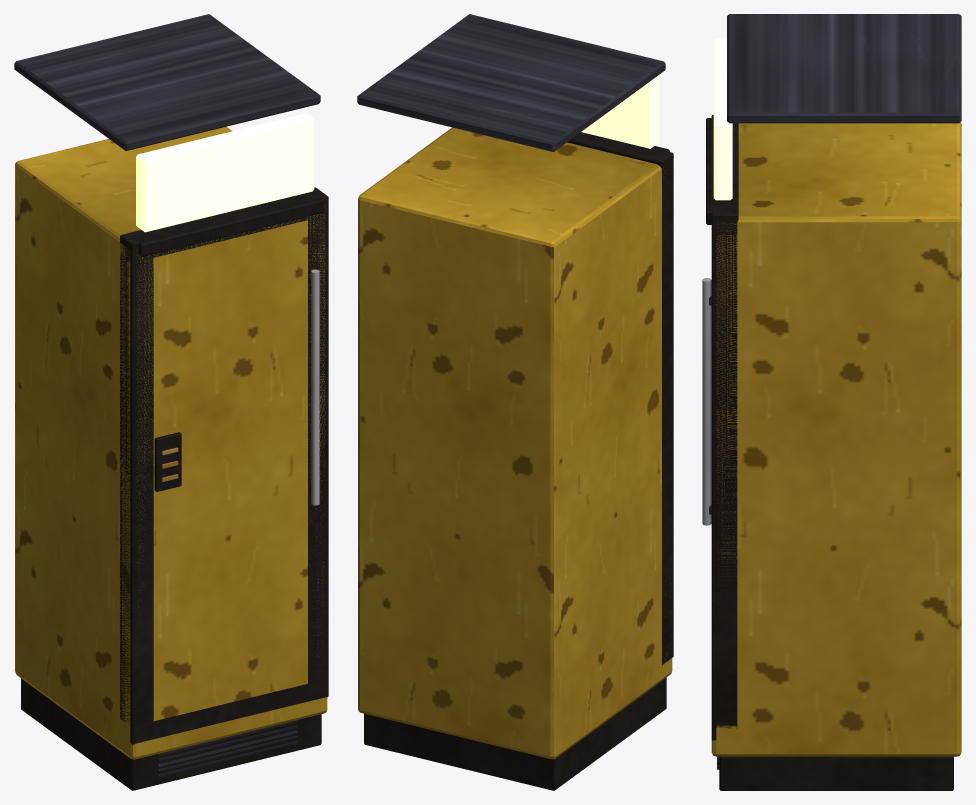
File: beer_fridge.glb
3 renders of one model, left to right at view 1: azimuth 30°, elevation 25°; view 2: azimuth 150°, elevation 25°; view 3: azimuth 270°, elevation 25°, orthographic. The views are drawn at different scales.
Visible parts, largest first — view 1: beer_fridge; view 2: beer_fridge; view 3: beer_fridge.
Part boxes in pixels (x1=…): beer_fridge: x1=14, y1=14, x2=328, y2=790; beer_fridge: x1=357, y1=14, x2=673, y2=790; beer_fridge: x1=702, y1=14, x2=961, y2=790.
Size of the model in its own units: 0.62 by 1.95 by 0.674.
10 materials, 5 textured.
